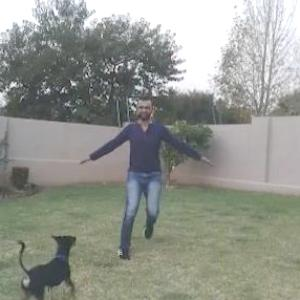land: (76, 69, 228, 274)
